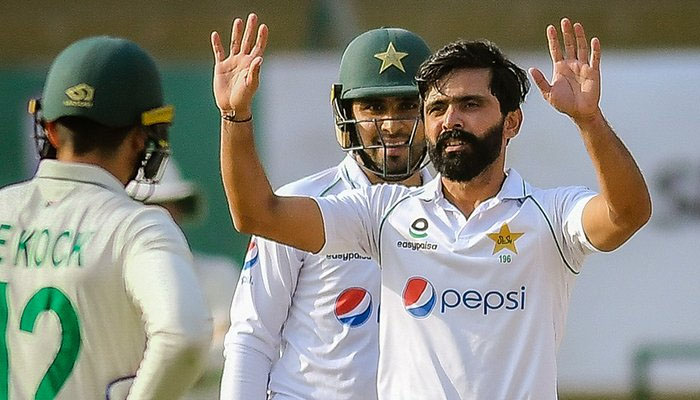NoMask: (424, 89, 492, 182), (357, 98, 422, 180)
